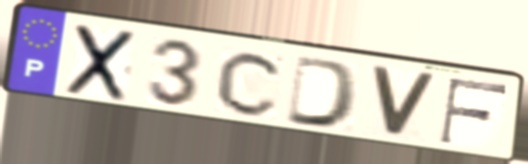3: (145, 37, 207, 110)
C: (213, 48, 288, 118)
D: (283, 53, 362, 132)
F: (436, 76, 512, 147)
V: (367, 63, 441, 142)
X: (62, 22, 140, 104)
